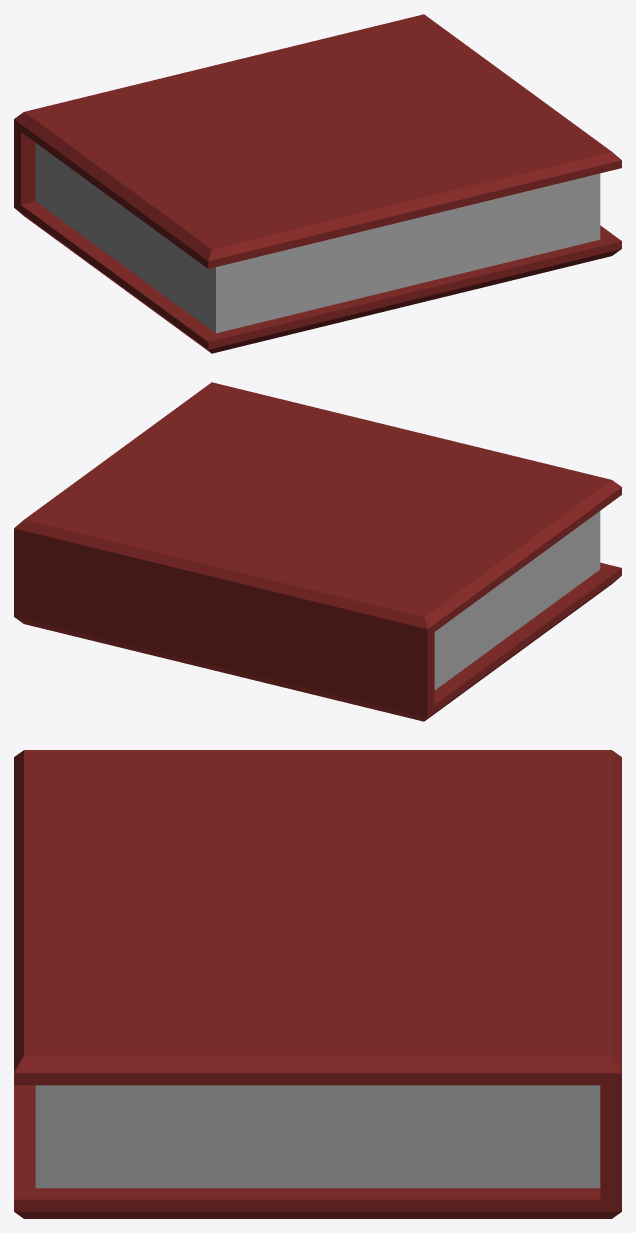
Rendered from Character_Rooms_Books_Red.fbx.
The picture shows the model from 3 angles, top to bottom: view 1: azimuth 30°, elevation 25°; view 2: azimuth 150°, elevation 25°; view 3: azimuth 270°, elevation 25°; orthographic projection. The views are drawn at different scales.
Visible parts, largest first — view 1: book.010; view 2: book.010; view 3: book.010.
Part boxes in pixels (x1,y1,x2,y2): book.010: (14, 14, 621, 353); book.010: (14, 382, 621, 721); book.010: (14, 750, 621, 1218).
Size of the model in its own units: 52.97 by 12.76 by 43.07.
